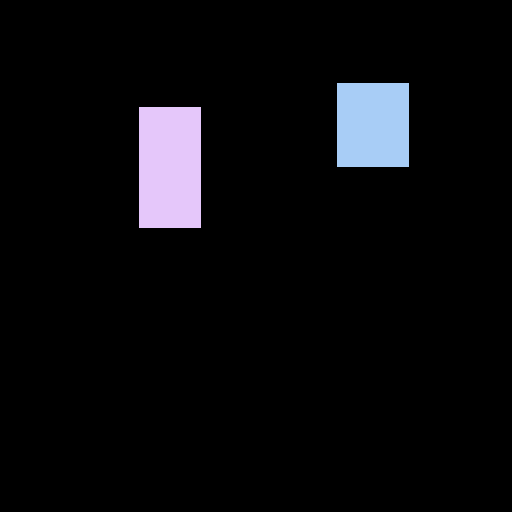rectangle: (139, 107, 200, 227), (337, 83, 408, 166)
